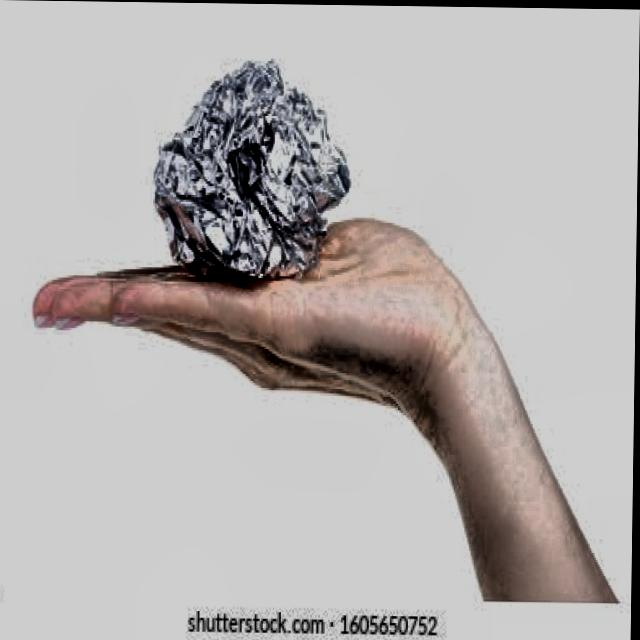Foil: (126, 43, 373, 299)
